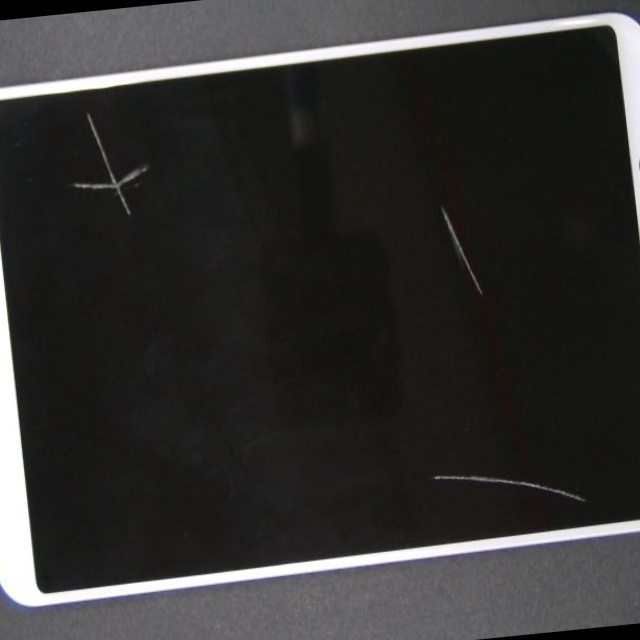scratch: (343, 236, 640, 640), (241, 171, 640, 425), (3, 82, 223, 332)
